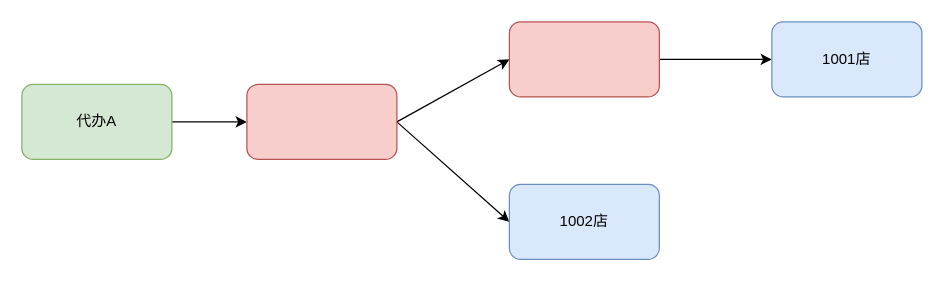
The diagram is 944 pixels wide and 281 high, and some of its shapes have lost their labels. The centre of each missing label's shape, as x and y in pixels:
仓A: [321,121]
仓B: [583,59]
